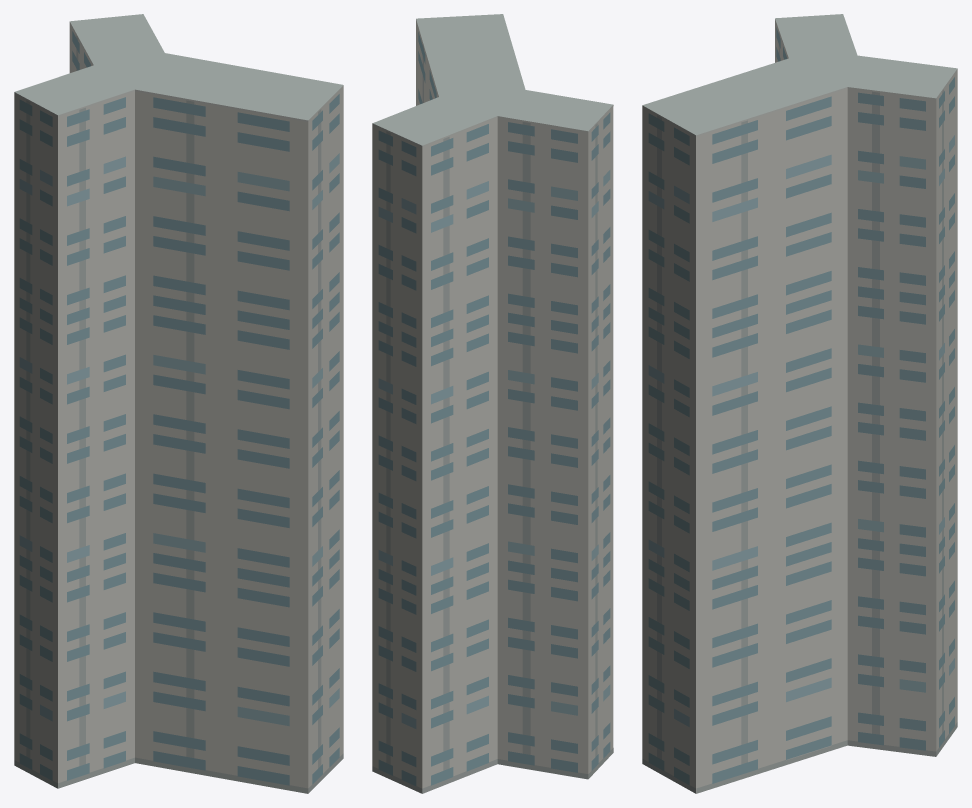
File: residential-ac8402c2-1482-400d-8102-52860f99415a.glb
3 renders of one model, left to right at view 1: azimuth 30°, elevation 25°; view 2: azimuth 150°, elevation 25°; view 3: azimuth 270°, elevation 25°, orthographic. The views are drawn at different scales.
Visible parts, largest first — view 1: residential-ac8402c2-1482-400d-8102-52860f99415a.tmp; view 2: residential-ac8402c2-1482-400d-8102-52860f99415a.tmp; view 3: residential-ac8402c2-1482-400d-8102-52860f99415a.tmp.
Boxes of the visible parts, x1,y1,x2,y2 form: residential-ac8402c2-1482-400d-8102-52860f99415a.tmp: (14, 14, 343, 793); residential-ac8402c2-1482-400d-8102-52860f99415a.tmp: (372, 14, 613, 793); residential-ac8402c2-1482-400d-8102-52860f99415a.tmp: (642, 14, 957, 793).
Bounding box in the file's own units: 40.32 × 102 × 44.28.
